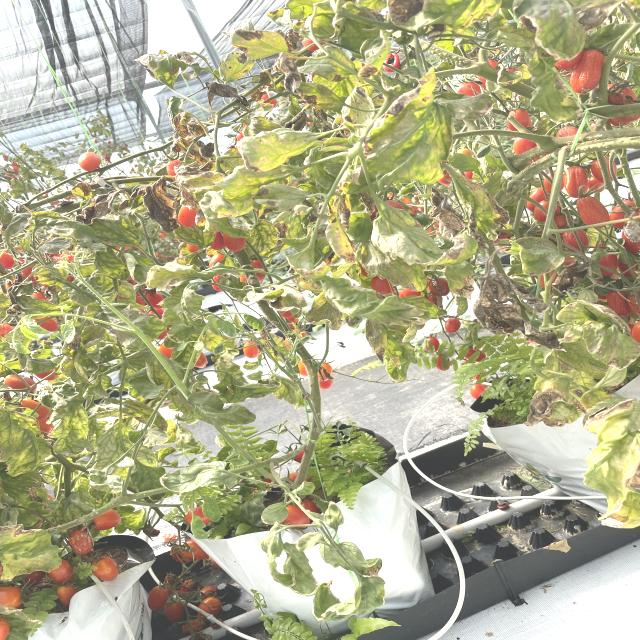Soilbag: (183, 425, 436, 633), (472, 352, 628, 520)
plant: (12, 218, 337, 492)
